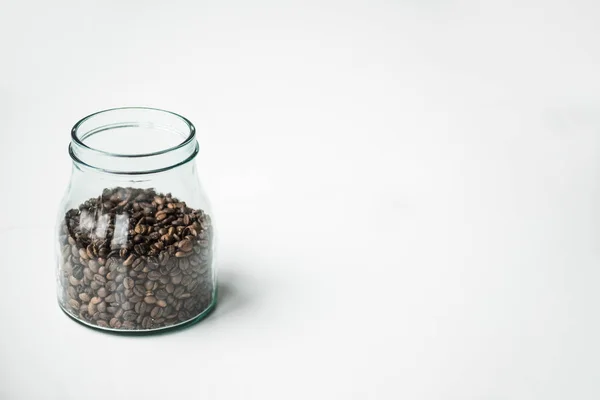glass_bottle: (39, 98, 240, 344)
